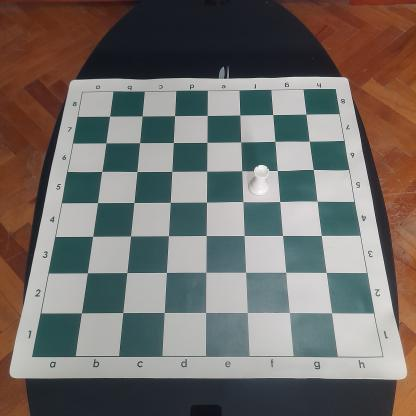white-rook: (246, 164, 272, 196)
